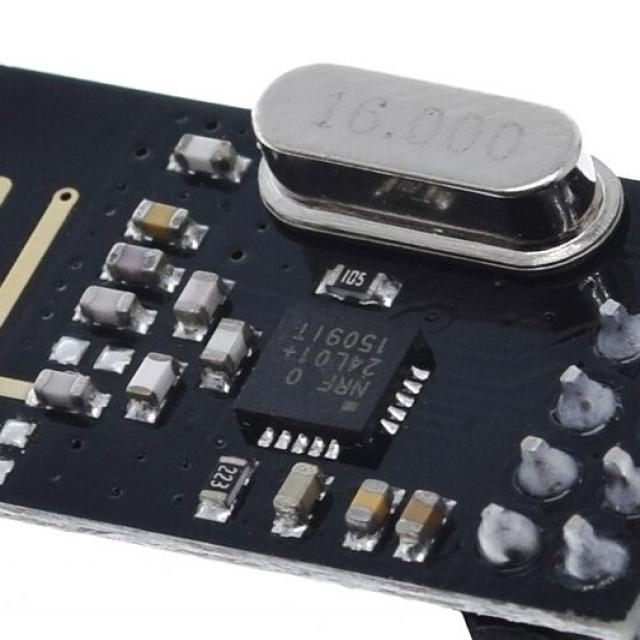IC: (232, 296, 434, 456)
capacitor 1V5: (266, 459, 330, 517), (126, 191, 196, 243), (176, 128, 244, 176), (74, 281, 143, 328), (32, 364, 95, 411), (167, 267, 221, 320), (196, 322, 252, 372), (87, 244, 168, 278), (126, 350, 178, 402), (398, 490, 448, 543), (343, 478, 392, 532)
clock Q1: (229, 59, 634, 259)
resistor IR1: (323, 260, 391, 302), (198, 455, 245, 503)
